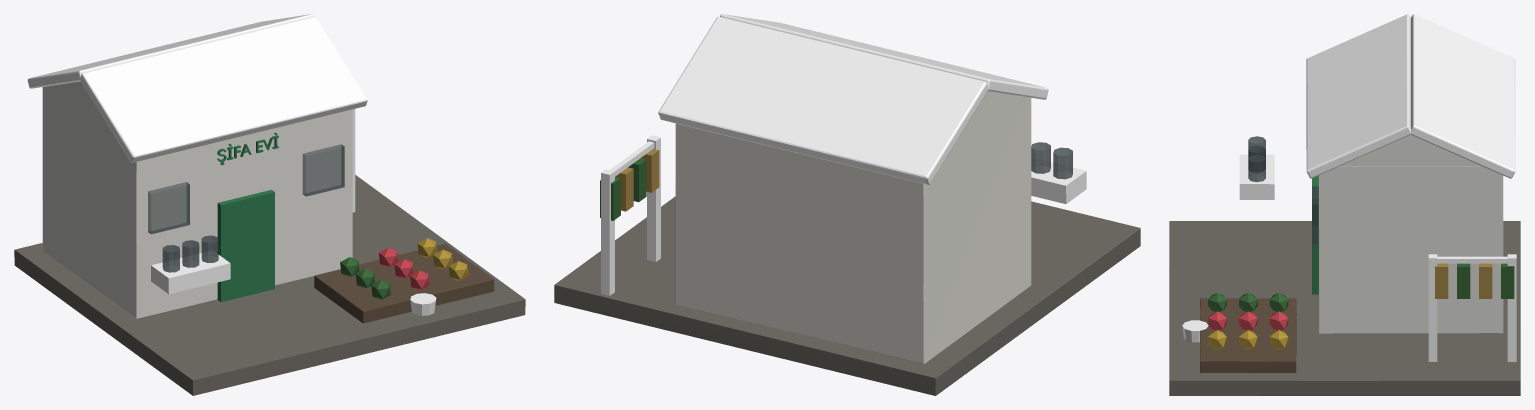
Rendered from sifa.glb.
3 renders of one model, left to right at view 1: azimuth 30°, elevation 25°; view 2: azimuth 150°, elevation 25°; view 3: azimuth 270°, elevation 25°, orthographic. The views are drawn at different scales.
Parts seen in each view (by area): view 1: Alin; view 2: Alin; view 3: Alin.
Boxes of the visible parts, x1,y1,x2,y2 form: Alin: (14, 14, 525, 395); Alin: (554, 14, 1140, 395); Alin: (1169, 14, 1520, 395).
Size of the model in its own units: 1 by 0.6651 by 0.9302.
